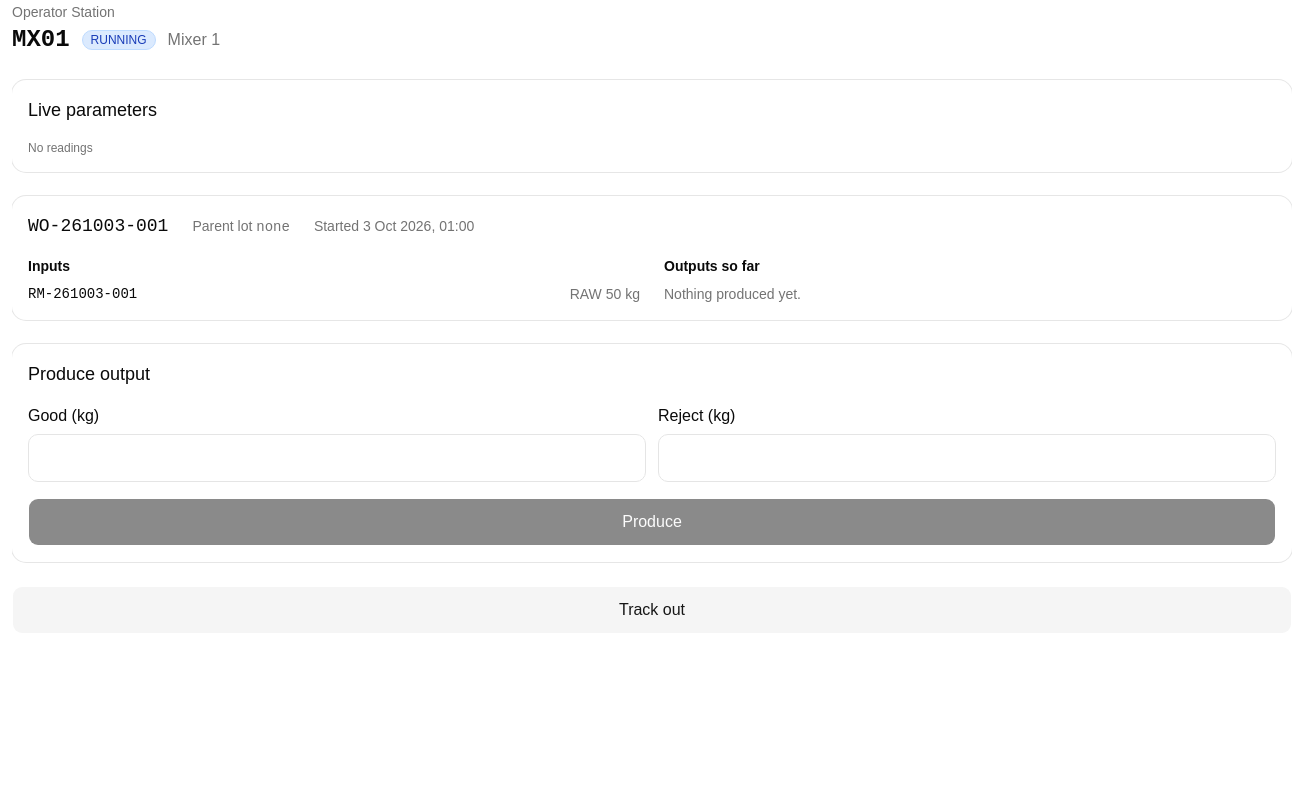
Test: StationPage › sends a MIX output once even when Produce is double-clicked
Expected: the text "RM-261003-001" is shown, [28,284,137,304]
Type "40" into the number field labelled "Good (kg)" at (337, 458), box [28,434,646,482]
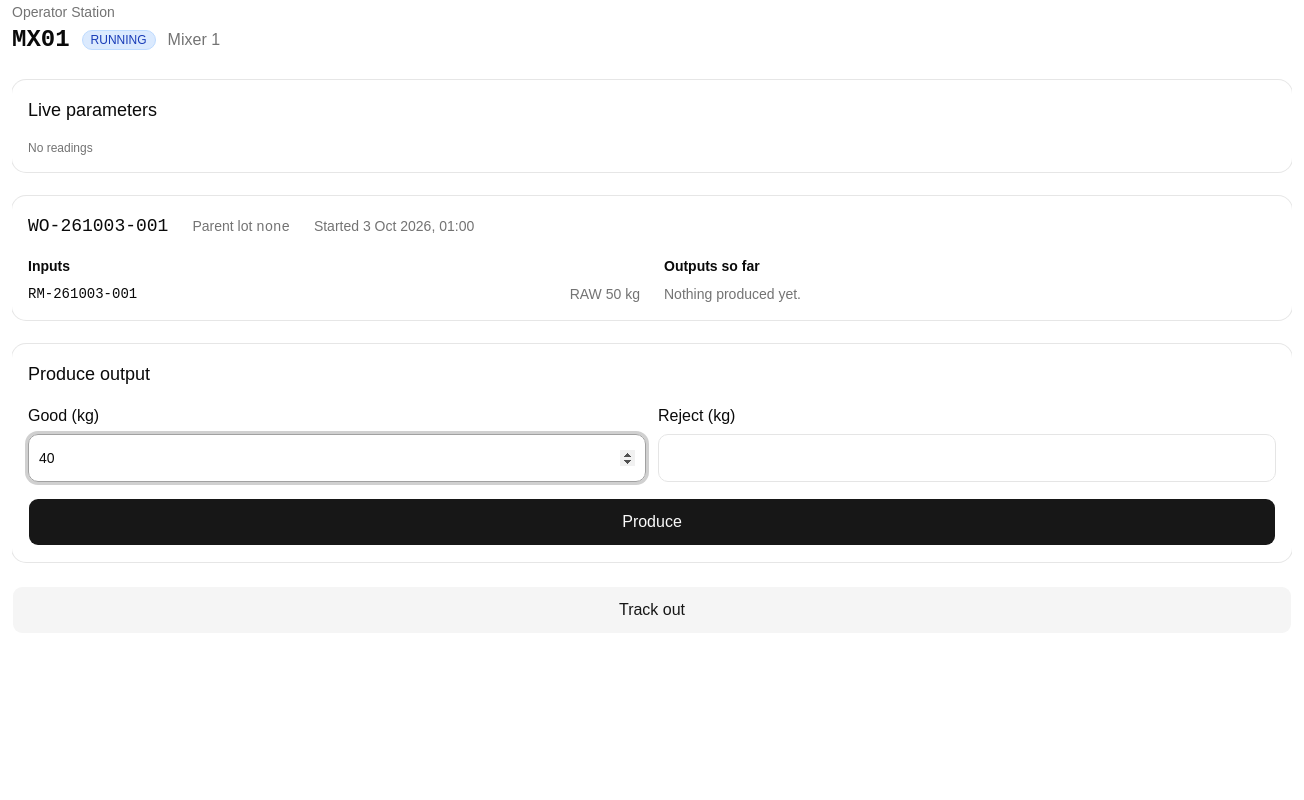
Double-click the button "Produce" at (652, 522), box [28,498,1276,546]
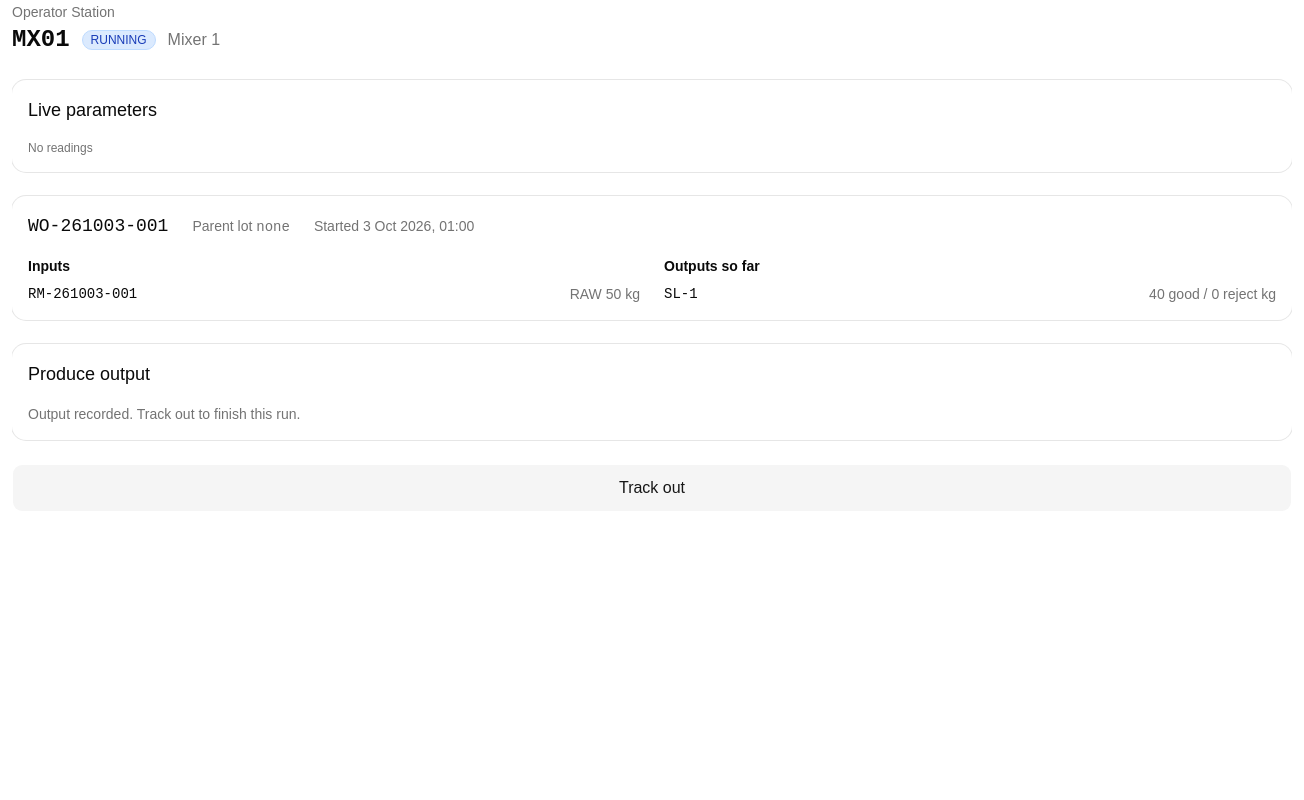
Now the text "Output recorded. Track out to finish this run." is shown, box [28,406,300,422]
